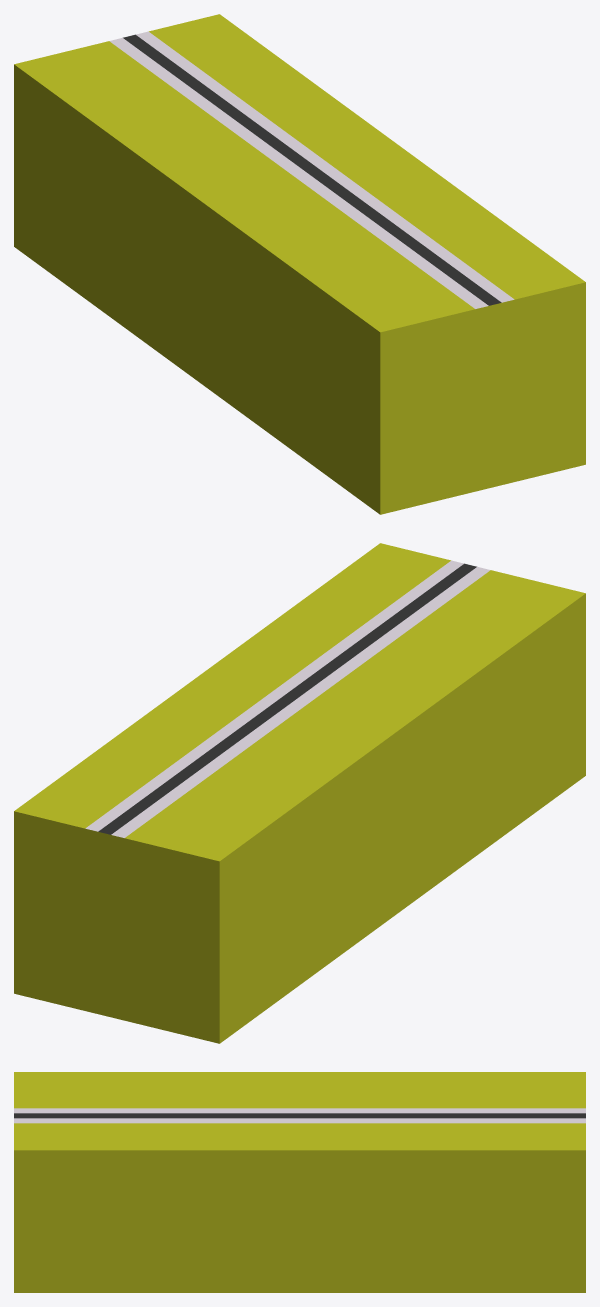
The model's file is Yellowbag.fbx.
3 renders of one model, top to bottom at view 1: azimuth 30°, elevation 25°; view 2: azimuth 150°, elevation 25°; view 3: azimuth 270°, elevation 25°, orthographic. The views are drawn at different scales.
Parts seen in each view (by area): view 1: Cube; view 2: Cube; view 3: Cube.
Boxes of the visible parts, box(x1,y1,x2,y2) form: Cube: box(14, 14, 585, 514); Cube: box(14, 543, 585, 1043); Cube: box(14, 1072, 585, 1292).
Bounding box in the file's own units: 133 × 113 × 410.
